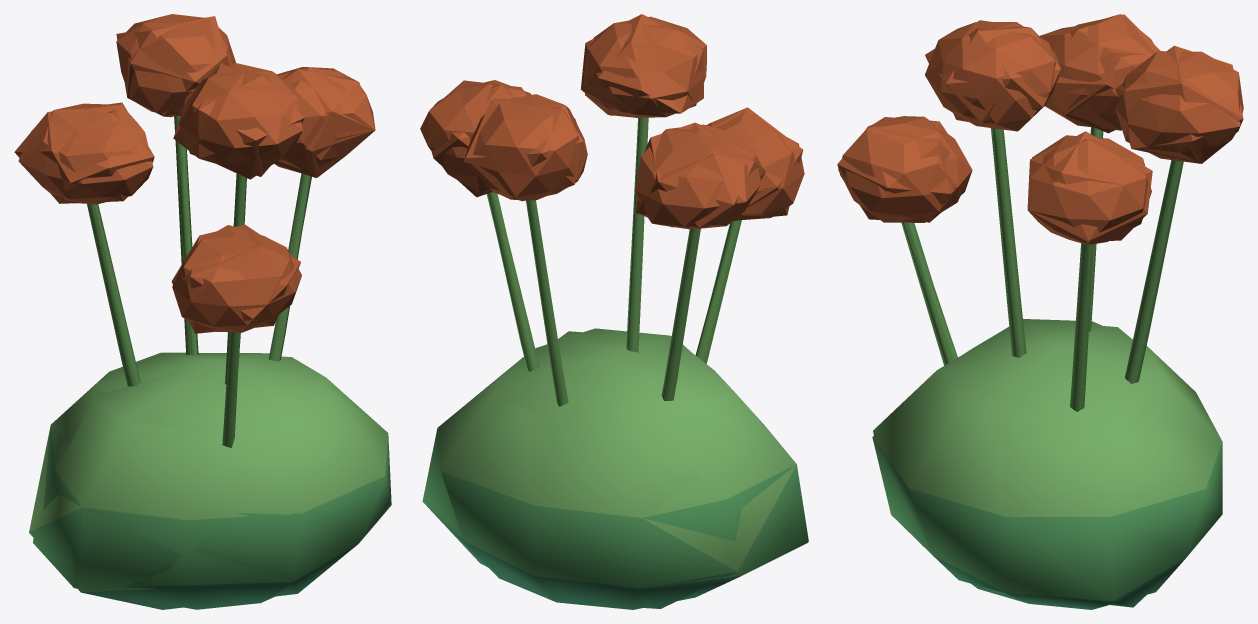
File: chrysanthemum_rust.glb
3 views of the same model, side by side, from view 1: azimuth 30°, elevation 25°; view 2: azimuth 150°, elevation 25°; view 3: azimuth 270°, elevation 25° (orthographic). The views are drawn at different scales.
Parts seen in each view (by area): view 1: body_nl, body__far, petal_rust_nl, stem; view 2: body__far, body_nl, petal_rust_nl, stem; view 3: body__far, petal_rust_nl, body_nl, stem.
Boxes of the visible parts, <box> form: body_nl: <box>33,352,386,609</box>; body__far: <box>14,16,391,609</box>; petal_rust_nl: <box>18,14,375,332</box>; stem: <box>87,115,310,448</box>; body__far: <box>422,14,808,608</box>; body_nl: <box>439,328,808,609</box>; petal_rust_nl: <box>420,16,804,229</box>; stem: <box>488,117,741,406</box>; body__far: <box>837,14,1243,607</box>; petal_rust_nl: <box>838,14,1243,244</box>; body_nl: <box>872,319,1222,609</box>; stem: <box>901,127,1183,411</box>.
Bounding box in the file's own units: 9.06 × 13.32 × 9.14.
